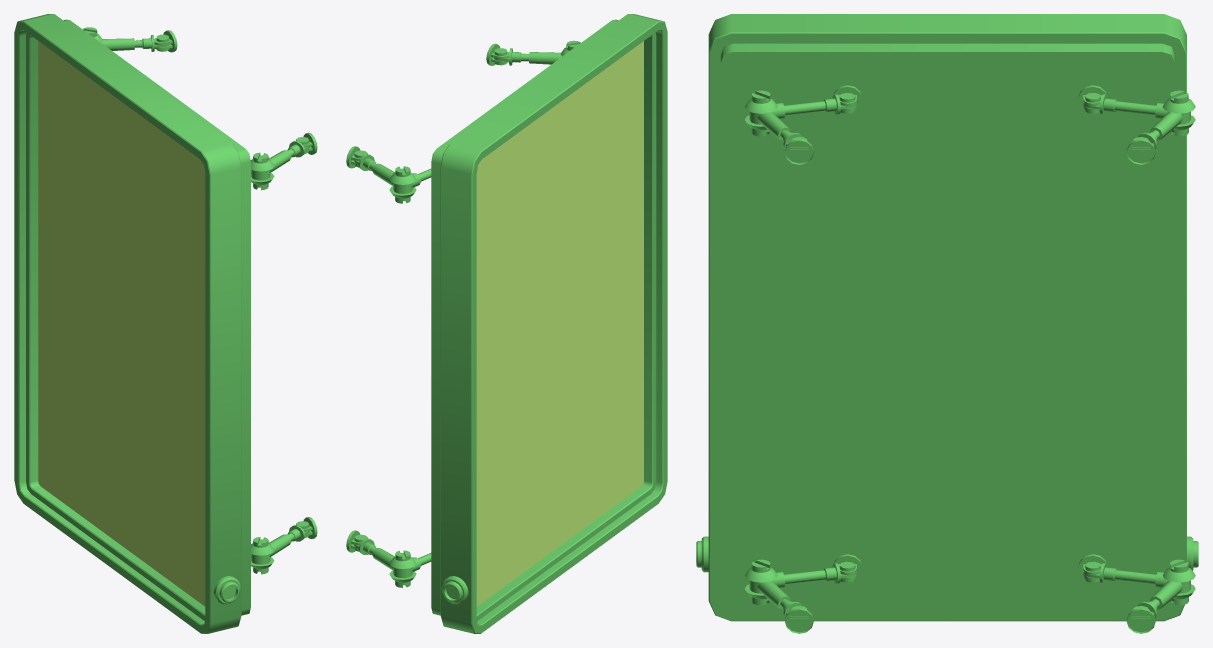
Rendered from Television_Metal_03.FBX.
3 views of the same model, side by side, from view 1: azimuth 30°, elevation 25°; view 2: azimuth 150°, elevation 25°; view 3: azimuth 270°, elevation 25° (orthographic). The views are drawn at different scales.
Visible parts, largest first — view 1: Television_Metal_03_LOD0; view 2: Television_Metal_03_LOD0; view 3: Television_Metal_03_LOD0.
Boxes of the visible parts, <box> form: Television_Metal_03_LOD0: <box>14,14,317,633</box>; Television_Metal_03_LOD0: <box>346,14,667,633</box>; Television_Metal_03_LOD0: <box>696,14,1198,633</box>.
Bounding box in the file's own units: 88.07 × 296 × 226.
